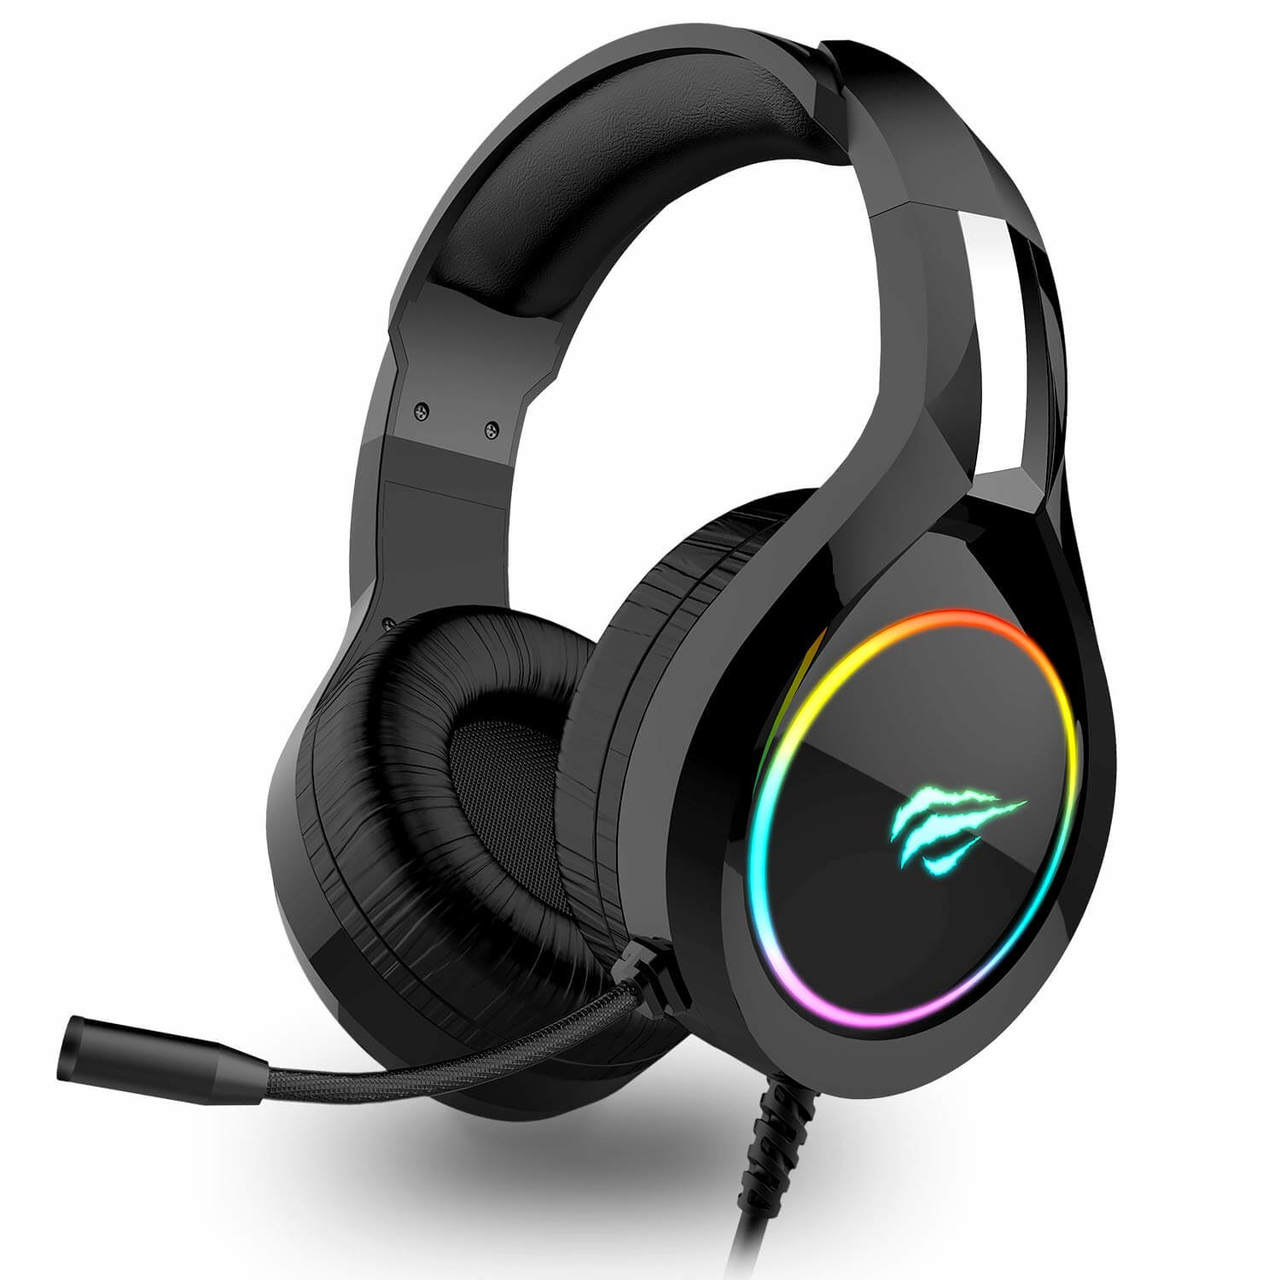Headset: (87, 9, 1172, 1176)
